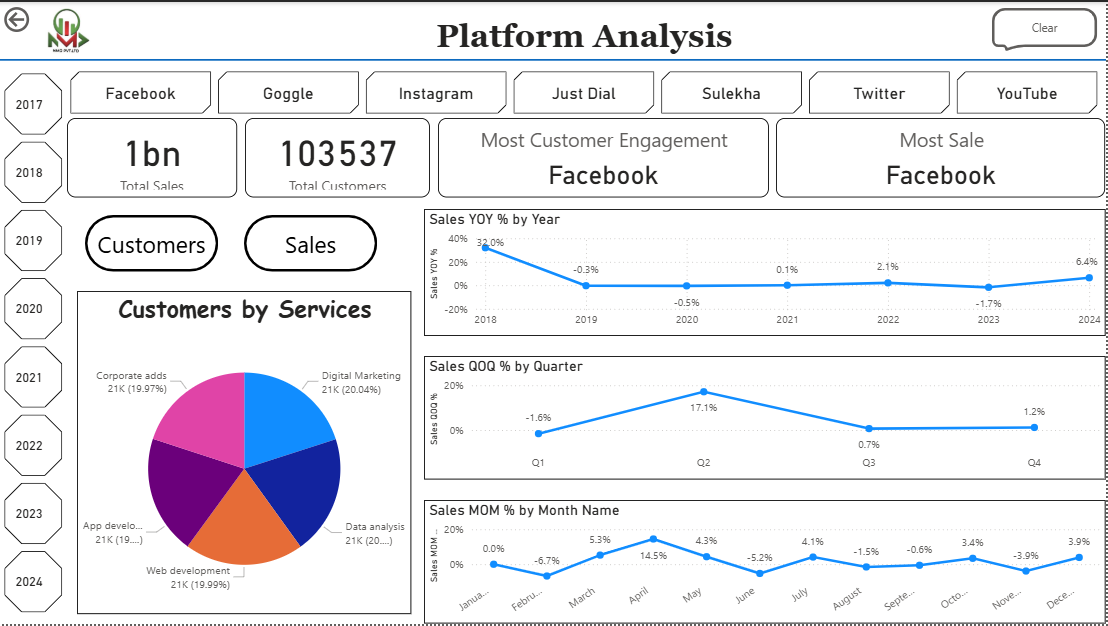

Layout of this report page (visuals, bound fields, positions):
{"tool":"powerbi","page":{"name":"PLatform Analysis","canvas":[1280,720],"ordinal":1},"visuals":[{"type":"textbox","box":[500.1,12.5,364.6,54.7],"z":0},{"type":"shape","box":[0,57,1280.5,20.5],"z":1000},{"type":"image","box":[30.4,0,92.4,66.7],"z":2000},{"type":"advancedSlicerVisual","fields":{"Values":["Dim_Calender.Year"]},"box":[0,77.5,77.5,641.4],"z":3000},{"type":"advancedSlicerVisual","fields":{"Values":["Dim_Platform.Platforms"]},"box":[77,75.6,1203,59.4],"z":4000},{"type":"card","fields":{"Values":["Measures (2).Total Sales"]},"box":[77.2,134.6,196.6,92.4],"z":5000},{"type":"card","fields":{"Values":["Measures (2).Total Customers"]},"box":[283.1,134.6,214.1,92.4],"z":6000},{"type":"card","fields":{"Values":["Min(Dim_Platform.Platforms)"]},"box":[506.6,134.6,382.6,92.4],"z":7000},{"type":"card","fields":{"Values":["Min(Dim_Platform.Platforms)"]},"box":[898.6,134.6,381.4,92.4],"z":8000},{"type":"lineChart","fields":{"Category":["Dim_Calender.Month Name"],"Y":["Measures (2).Sales MOM %"]},"box":[490.9,577,789.1,142.7],"z":9000},{"type":"lineChart","fields":{"Category":["Dim_Calender.Year"],"Y":["Measures (2).Sales YOY %"]},"box":[490.9,239,789.1,146.5],"z":10000},{"type":"lineChart","fields":{"Category":["Dim_Calender.Quarter"],"Y":["Measures (2).Sales QOQ %"]},"box":[490.9,410,789.1,142.7],"z":11000},{"type":"pieChart","title":"Customers by Services","fields":{"Y":["Measures (2).Total Customers"],"Category":["Dim_Service_details.Service-List"]},"box":[88.9,334.6,387.3,374.4],"z":15000},{"type":"actionButton","box":[99,246.7,154.2,65.5],"z":16000},{"type":"actionButton","box":[282.7,246.7,154.2,65.5],"z":17000},{"type":"actionButton","box":[1147.8,7,121.7,50.3],"z":18000},{"type":"actionButton","box":[0,0,38.6,39.8],"z":19000}]}

Visuals, with their boxes in screenshot pixels (x1, y1, x2, y2), scaled from the page's 1280x720 canvas onto the 1108x626 screenshot:
textbox: <box>433,11,749,58</box>
shape: <box>0,50,1107,67</box>
image: <box>26,0,106,58</box>
advancedSlicerVisual - Dim_Calender.Year: <box>0,67,67,625</box>
advancedSlicerVisual - Dim_Platform.Platforms: <box>67,66,1107,117</box>
card - Measures (2).Total Sales: <box>67,117,237,197</box>
card - Measures (2).Total Customers: <box>245,117,430,197</box>
card - Min(Dim_Platform.Platforms): <box>439,117,770,197</box>
card - Min(Dim_Platform.Platforms): <box>778,117,1107,197</box>
lineChart - Dim_Calender.Month Name x Measures (2).Sales MOM %: <box>425,502,1107,625</box>
lineChart - Dim_Calender.Year x Measures (2).Sales YOY %: <box>425,208,1107,335</box>
lineChart - Dim_Calender.Quarter x Measures (2).Sales QOQ %: <box>425,356,1107,481</box>
"Customers by Services" pieChart: <box>77,291,412,616</box>
actionButton: <box>86,214,219,271</box>
actionButton: <box>245,214,378,271</box>
actionButton: <box>994,6,1099,50</box>
actionButton: <box>0,0,33,35</box>
